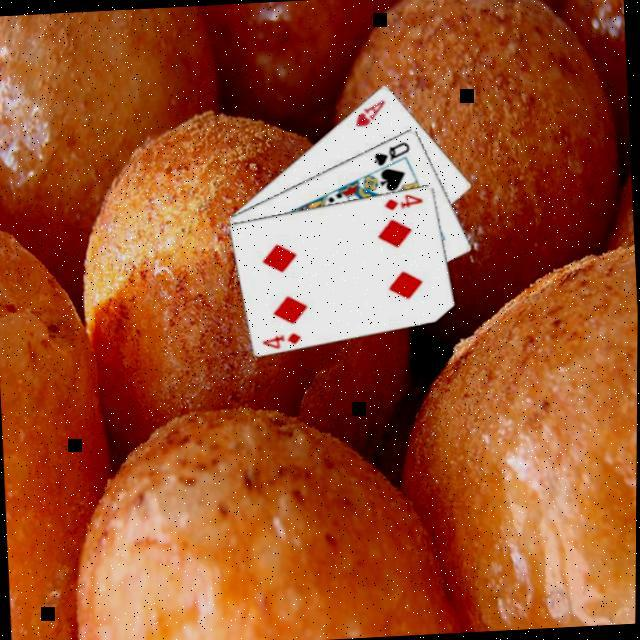4D: (259, 328, 304, 351), (381, 190, 426, 212)
AH: (350, 95, 390, 128)
QS: (370, 138, 412, 168)
